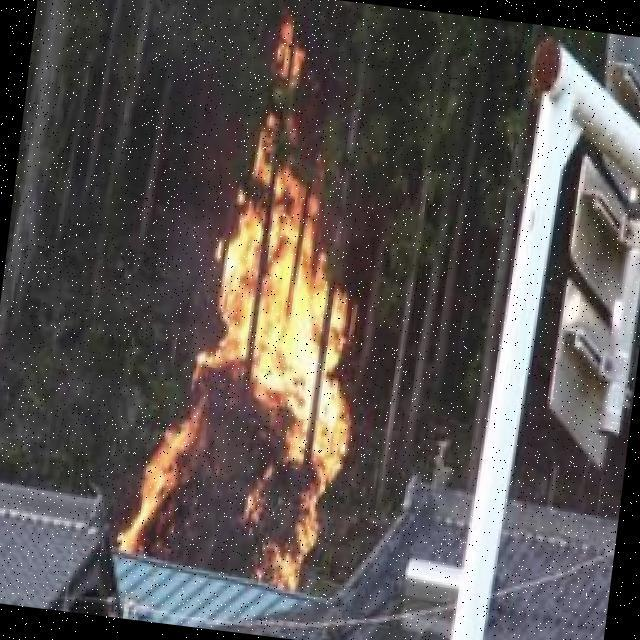Fire: (121, 106, 374, 596)
